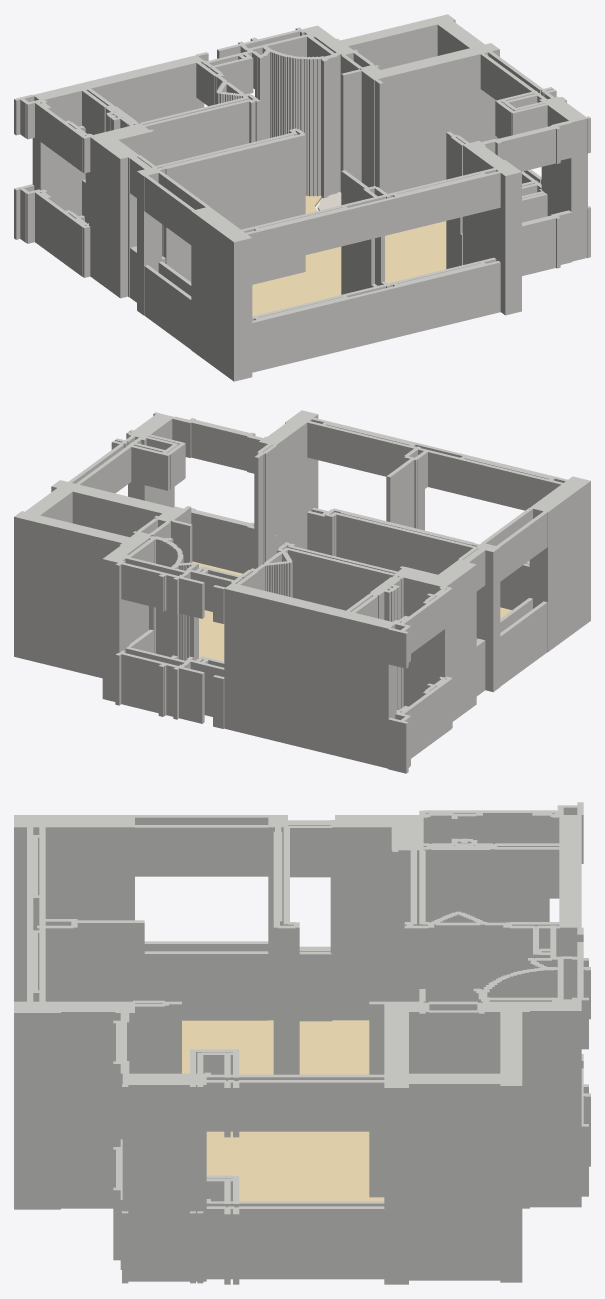
The picture shows the model from 3 angles, top to bottom: view 1: azimuth 30°, elevation 25°; view 2: azimuth 150°, elevation 25°; view 3: azimuth 270°, elevation 25°; orthographic projection. The views are drawn at different scales.
Parts seen in each view (by area): view 1: walls, room:living:1; view 2: walls, room:living:1; view 3: walls, room:living:1.
Boxes of the visible parts, left/top/right/bottom form: walls: left=14, top=14, right=590, bottom=381; room:living:1: left=252, top=195, right=446, bottom=316; walls: left=14, top=410, right=590, bottom=773; room:living:1: left=192, top=561, right=511, bottom=661; walls: left=14, top=802, right=590, bottom=1284; room:living:1: left=182, top=1020, right=384, bottom=1201.
Size of the model in its own units: 8.73 by 2.8 by 7.45.
